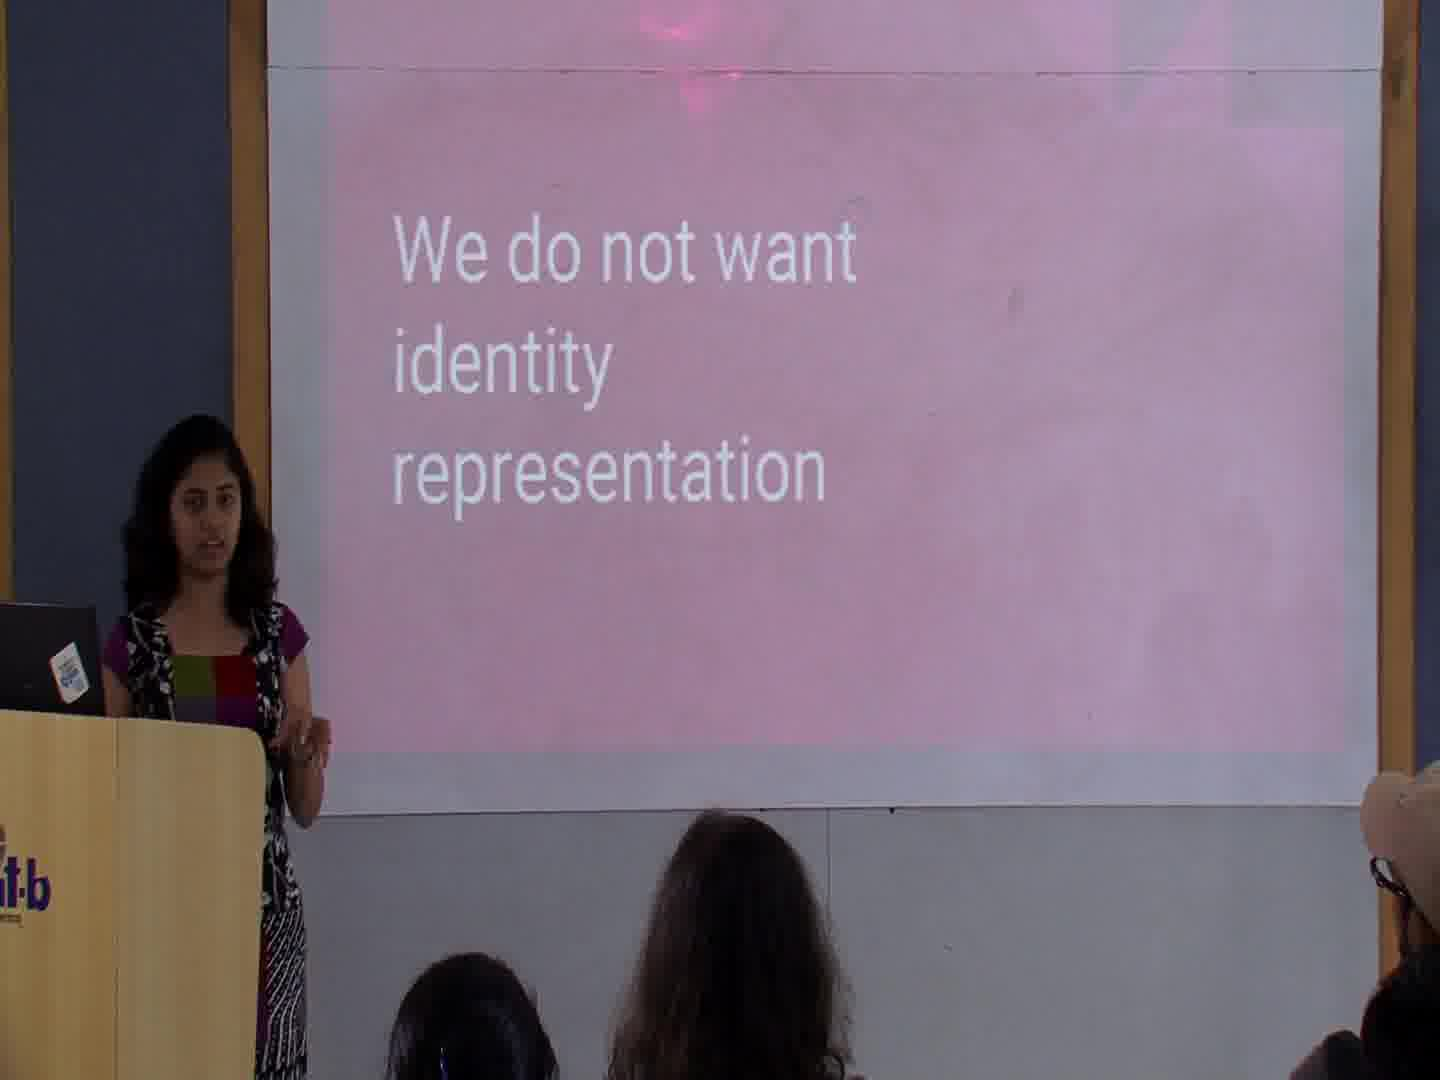slide: (321, 3, 1344, 757)
